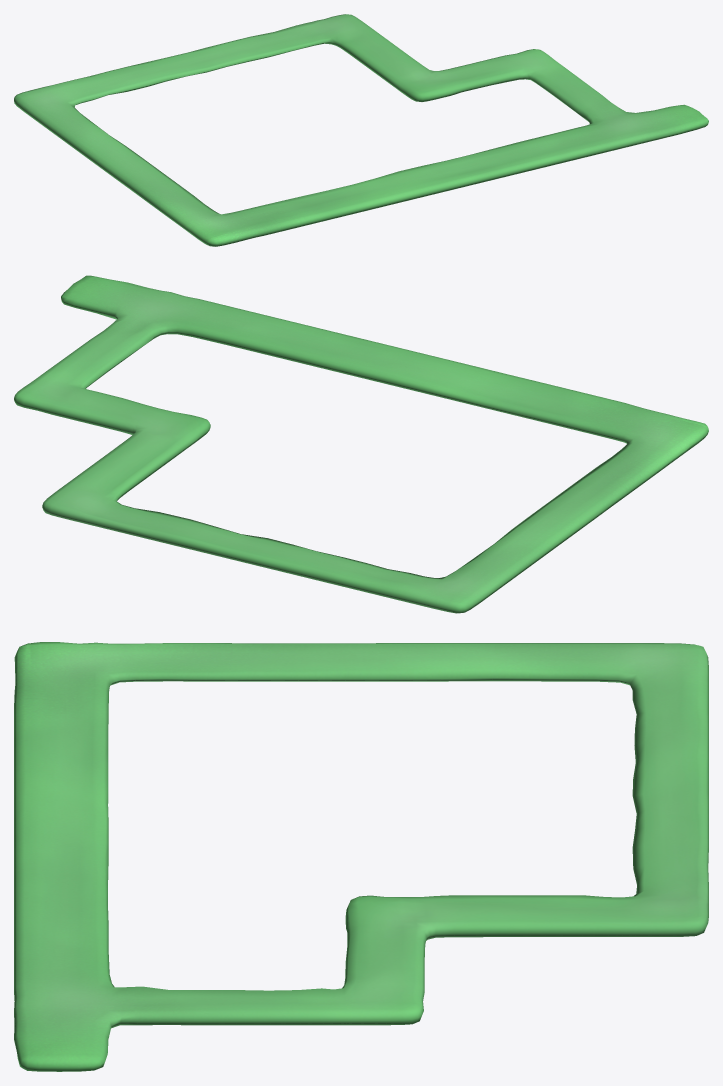
File: Mownlawn.FBX
3 views of the same model, one above another, from view 1: azimuth 30°, elevation 25°; view 2: azimuth 150°, elevation 25°; view 3: azimuth 270°, elevation 25° (orthographic). The views are drawn at different scales.
Visible parts, largest first — view 1: Box001; view 2: Box001; view 3: Box001.
Part boxes in pixels (x1,y1,x2,y2): Box001: (14, 14, 708, 246); Box001: (14, 275, 708, 613); Box001: (14, 642, 708, 1071).
Bounding box in the file's own units: 1244 × 23.76 × 866.
1 material, 1 textured.
